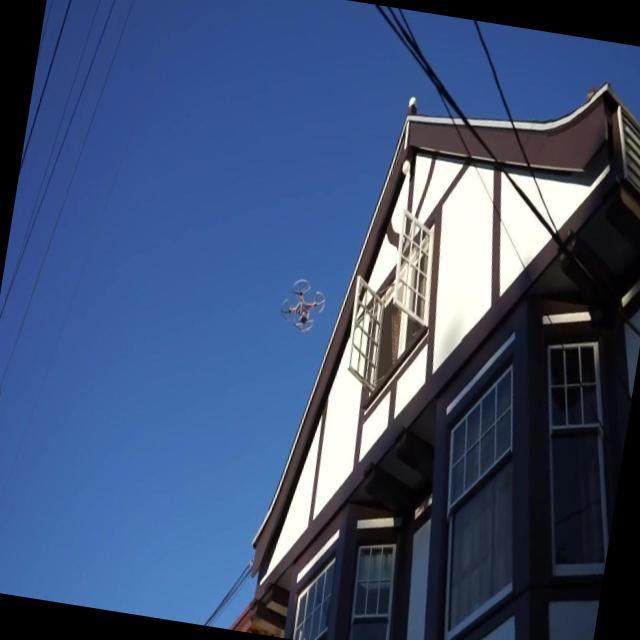drone: (277, 272, 332, 338)
